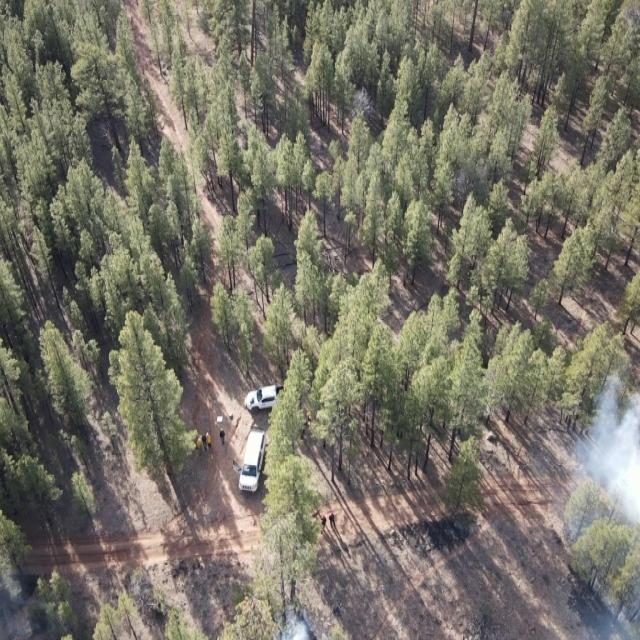smoke: (564, 374, 640, 640), (0, 561, 67, 640), (275, 610, 328, 640)
